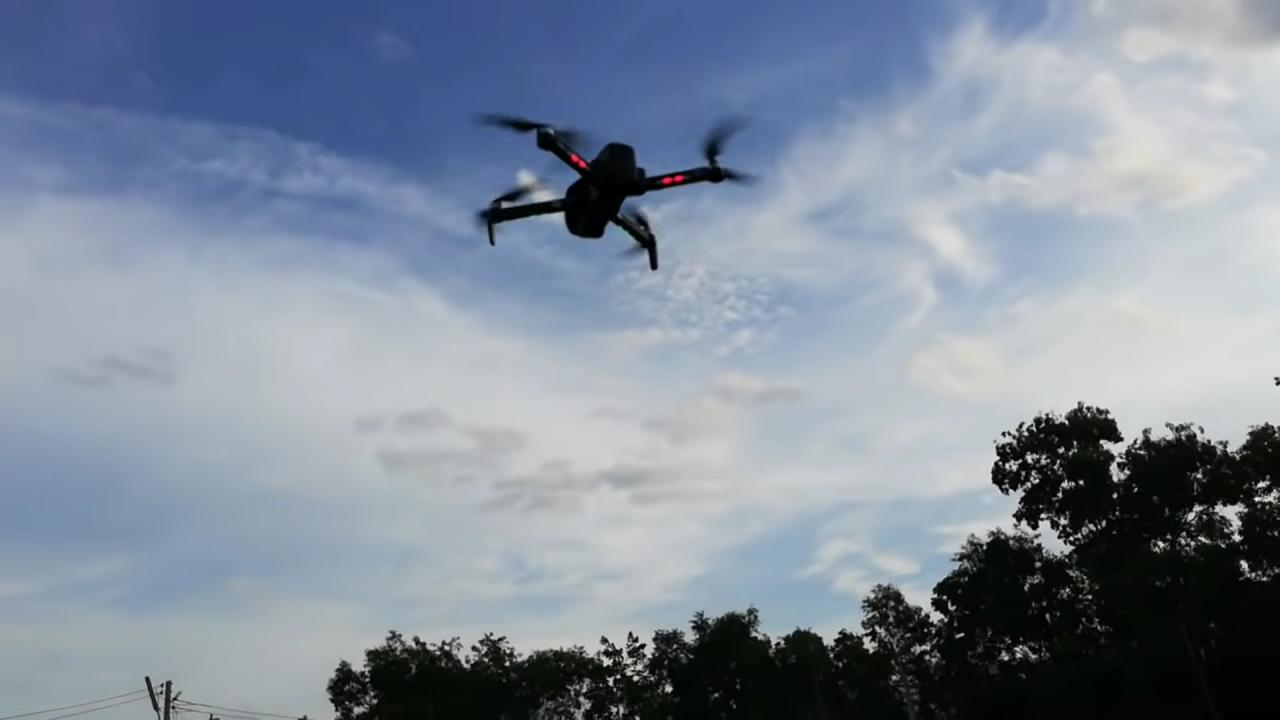Drone: (459, 88, 768, 281)
